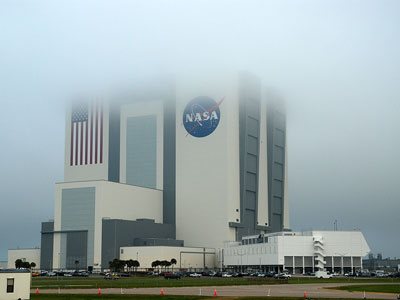NASA: (177, 95, 226, 140)
